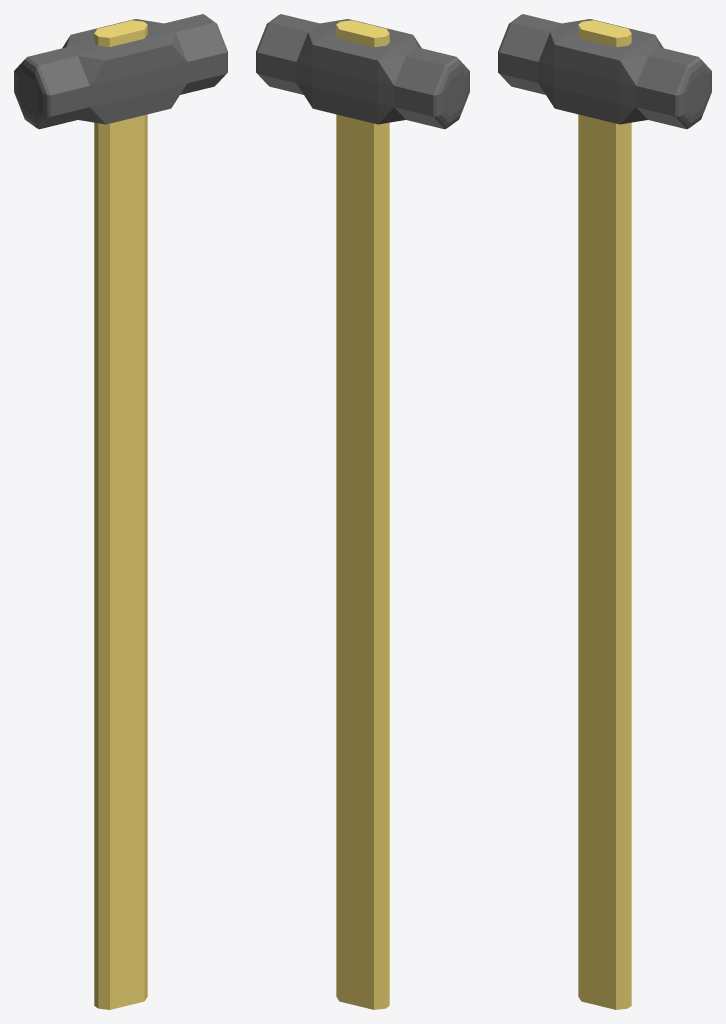
The model's file is Sledge V3.2.glb.
3 views of the same model, side by side, from view 1: azimuth 30°, elevation 25°; view 2: azimuth 150°, elevation 25°; view 3: azimuth 330°, elevation 25° (orthographic).
Parts seen in each view (by area): view 1: Sledge -col; view 2: Sledge -col; view 3: Sledge -col.
Part boxes in pixels (bbox=[...]): Sledge -col: bbox=[14, 14, 227, 1009]; Sledge -col: bbox=[256, 14, 469, 1009]; Sledge -col: bbox=[498, 14, 711, 1009].
Bounding box in the file's own units: 0.1927 × 0.9652 × 0.0661.
